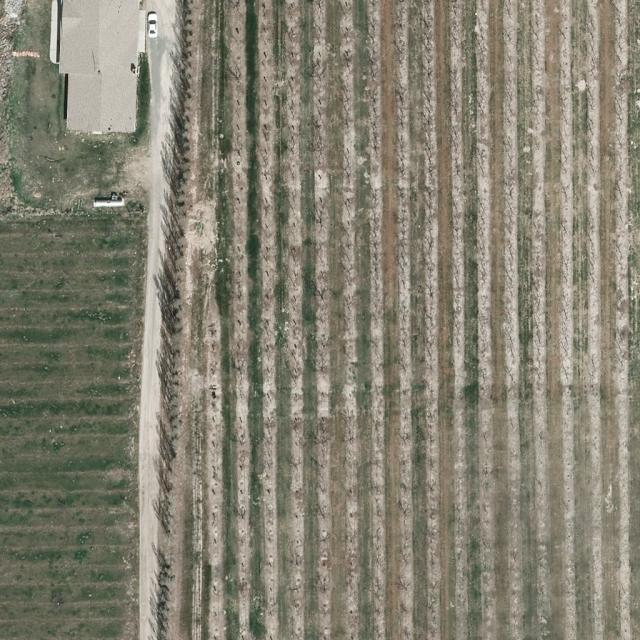vehicle: (146, 11, 158, 40)
